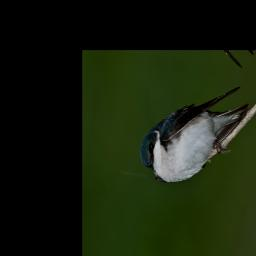Swallow: (135, 68, 252, 200)
